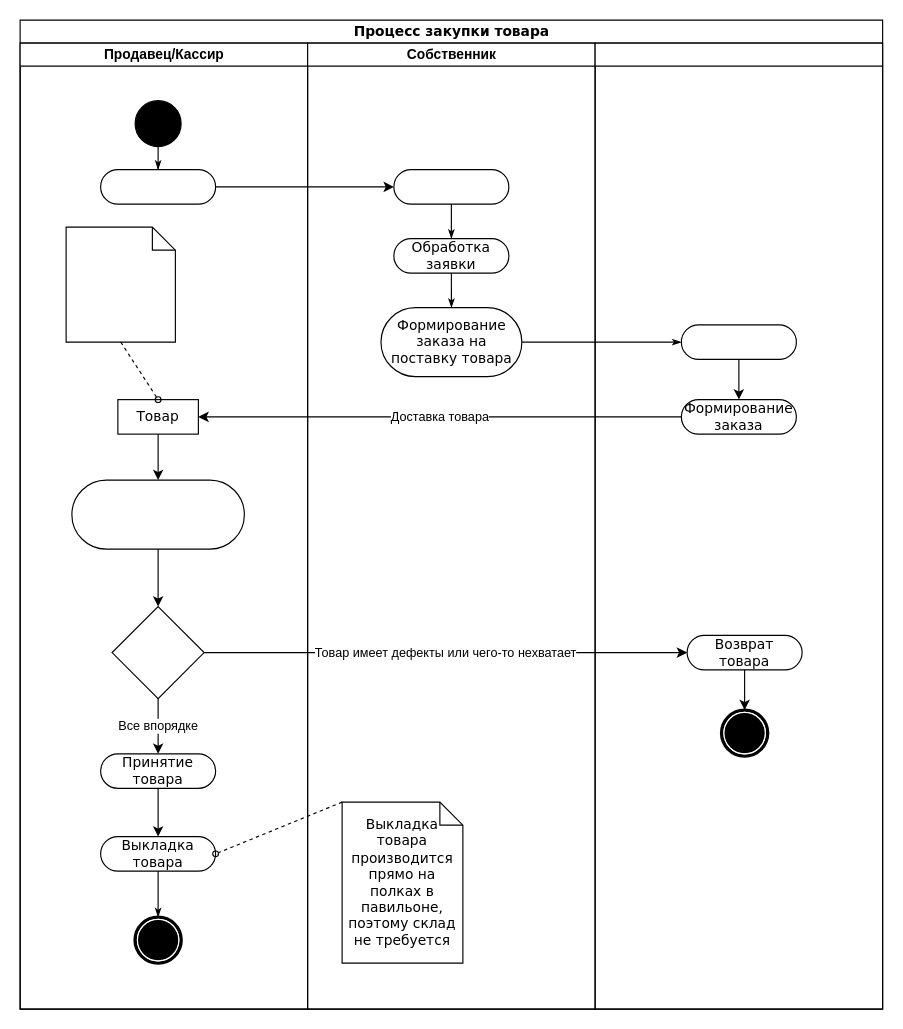
The diagram is 903 pixels wide and 1029 high, and some of its shapes have lost their labels. The box of each missing label's shape, as (x1, y1, x2, y2) in pixels:
Доставка товара происходит прямо в павильон: (65, 226, 175, 342)
Поставщик: (594, 42, 883, 1009)
Прием заказа на поставку: (680, 324, 796, 359)
Прием заявки: (393, 168, 509, 204)
Сверка товара по накладной и проверка на качество: (71, 479, 244, 549)
Составление заявки: (99, 168, 216, 204)
